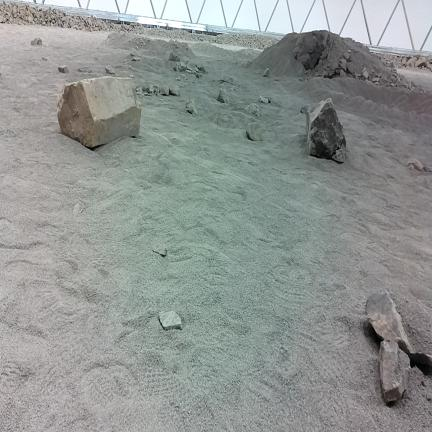Rock: (58, 77, 141, 147), (366, 291, 431, 361), (0, 2, 140, 31), (307, 98, 346, 162), (380, 341, 410, 403), (294, 31, 328, 69), (159, 311, 182, 330), (246, 122, 262, 141), (245, 103, 260, 117), (407, 159, 424, 170), (153, 245, 167, 256), (165, 51, 179, 62), (186, 100, 197, 114), (218, 89, 229, 102), (323, 66, 334, 77), (174, 62, 186, 72), (73, 203, 83, 215), (415, 57, 427, 67), (219, 78, 236, 85), (160, 84, 169, 96), (143, 85, 155, 94), (105, 65, 115, 75), (169, 85, 179, 95), (424, 390, 432, 402), (406, 58, 416, 67), (340, 58, 347, 70), (362, 67, 369, 79), (186, 64, 195, 73), (150, 85, 159, 94), (31, 38, 42, 45), (187, 65, 196, 73), (301, 104, 309, 113), (380, 78, 389, 86), (259, 96, 269, 103), (78, 67, 91, 72), (130, 49, 138, 57), (59, 66, 68, 73), (0, 13, 6, 23), (332, 61, 338, 71), (199, 66, 207, 73), (344, 52, 350, 61), (426, 61, 431, 71), (353, 72, 360, 79), (264, 68, 269, 77), (340, 70, 346, 77), (402, 58, 408, 65), (136, 88, 142, 95), (423, 166, 431, 171), (372, 77, 379, 82), (132, 57, 140, 61), (196, 73, 202, 78), (347, 73, 353, 78), (371, 82, 380, 85), (186, 70, 192, 74), (428, 55, 431, 62), (347, 49, 351, 54), (42, 57, 47, 60), (176, 77, 180, 80), (130, 74, 134, 77), (128, 65, 131, 69), (0, 72, 2, 76)
